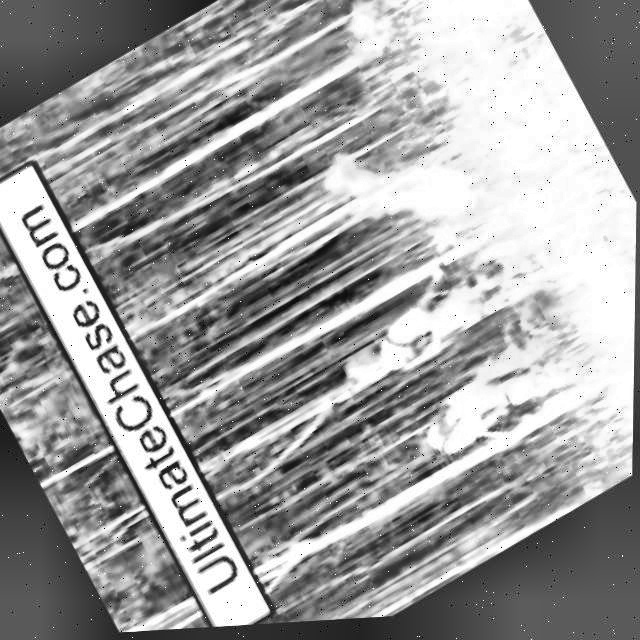Fire: (302, 91, 503, 295), (311, 0, 410, 92)
